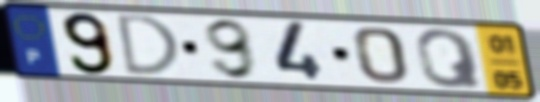0: (349, 25, 413, 87)
4: (272, 18, 333, 86)
9: (59, 10, 118, 77), (200, 17, 261, 81)
D: (115, 12, 183, 78)
Q: (412, 27, 487, 90)
